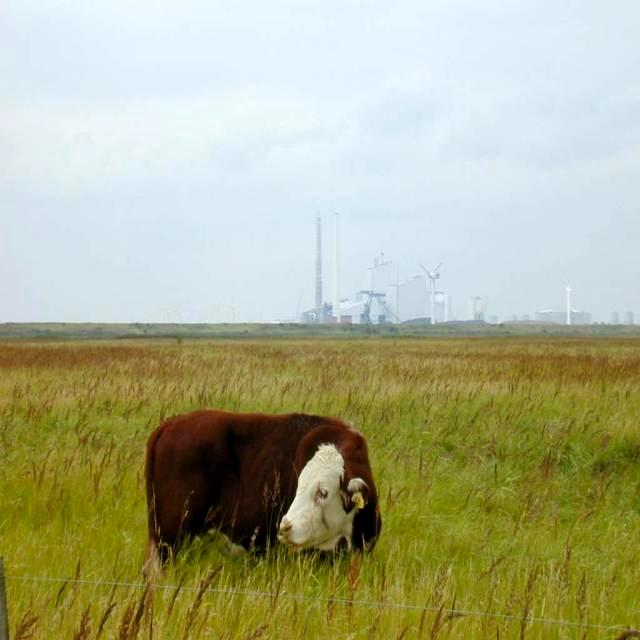COW: (145, 411, 381, 568)
